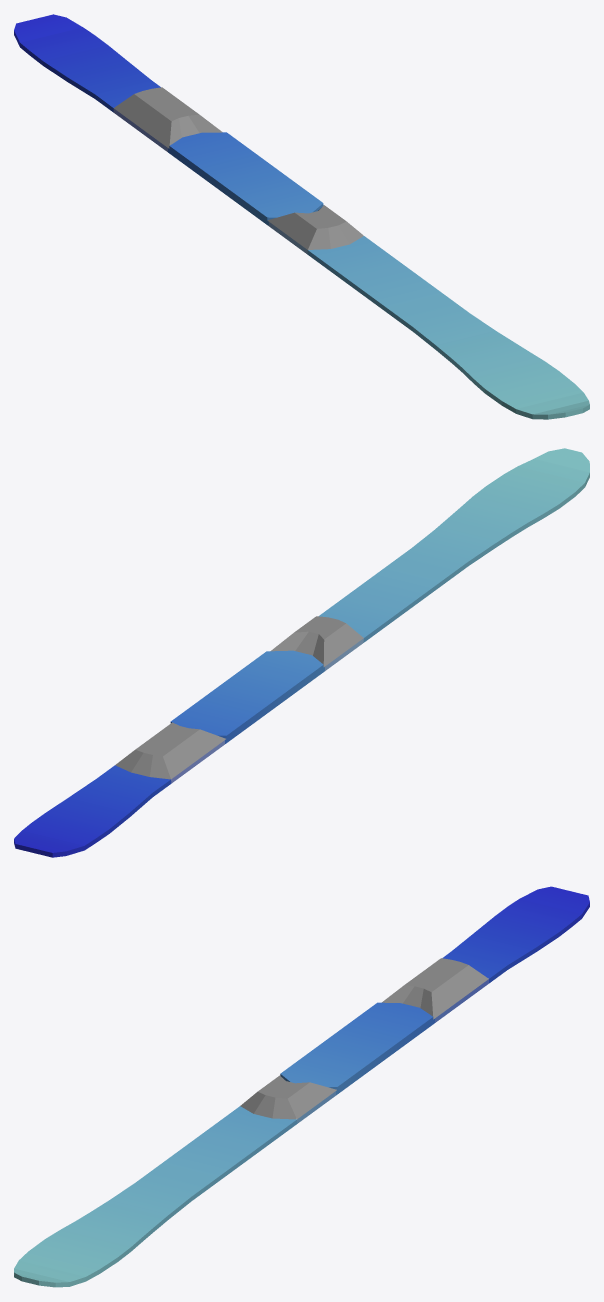
Rendered from ski.fbx.
3 renders of one model, top to bottom at view 1: azimuth 30°, elevation 25°; view 2: azimuth 150°, elevation 25°; view 3: azimuth 330°, elevation 25°, orthographic.
Parts seen in each view (by area): view 1: Plane; view 2: Plane; view 3: Plane.
Boxes of the visible parts, x1,y1,x2,y2 form: Plane: [14, 14, 589, 419]; Plane: [14, 448, 589, 857]; Plane: [14, 886, 589, 1287].
Size of the model in its own units: 260 by 68.44 by 3299.
1 material, 1 textured.
